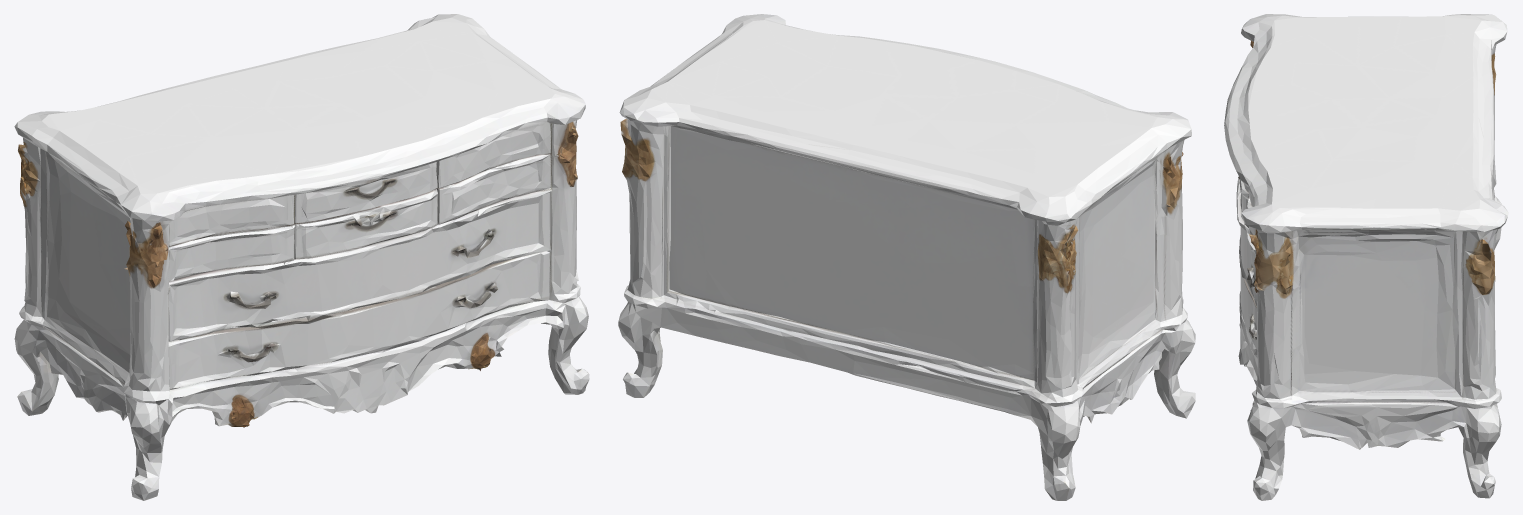
File: Cruise_chiffonier_0522030905_texture.fbx
3 renders of one model, left to right at view 1: azimuth 30°, elevation 25°; view 2: azimuth 150°, elevation 25°; view 3: azimuth 270°, elevation 25°, orthographic. The views are drawn at different scales.
Parts seen in each view (by area): view 1: temp; view 2: temp; view 3: temp.
Boxes of the visible parts, <box> form: temp: <box>14,14,589,500</box>; temp: <box>618,14,1195,500</box>; temp: <box>1224,14,1508,500</box>.
Size of the model in its own units: 201 by 124 by 113.
Materials: 1 (1 with a texture image).
